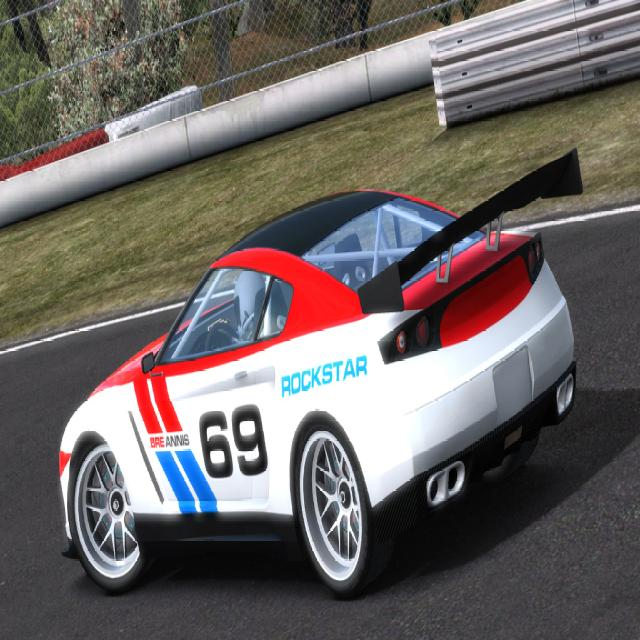car: (53, 171, 557, 599)
